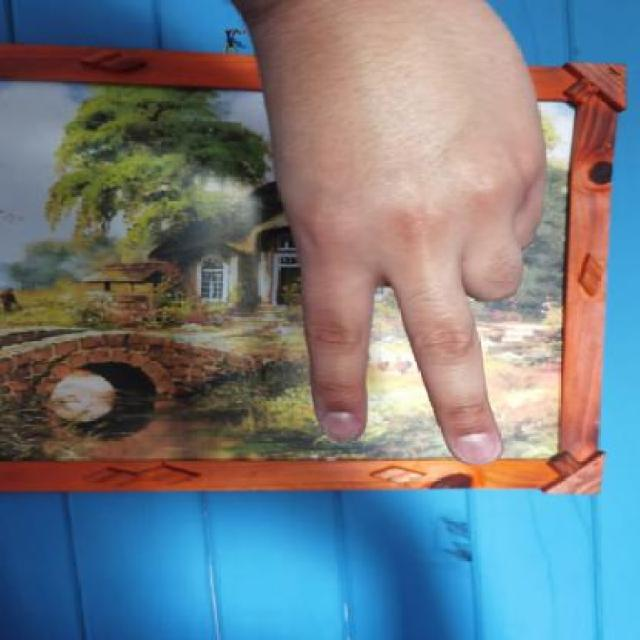N: (212, 0, 594, 482)
